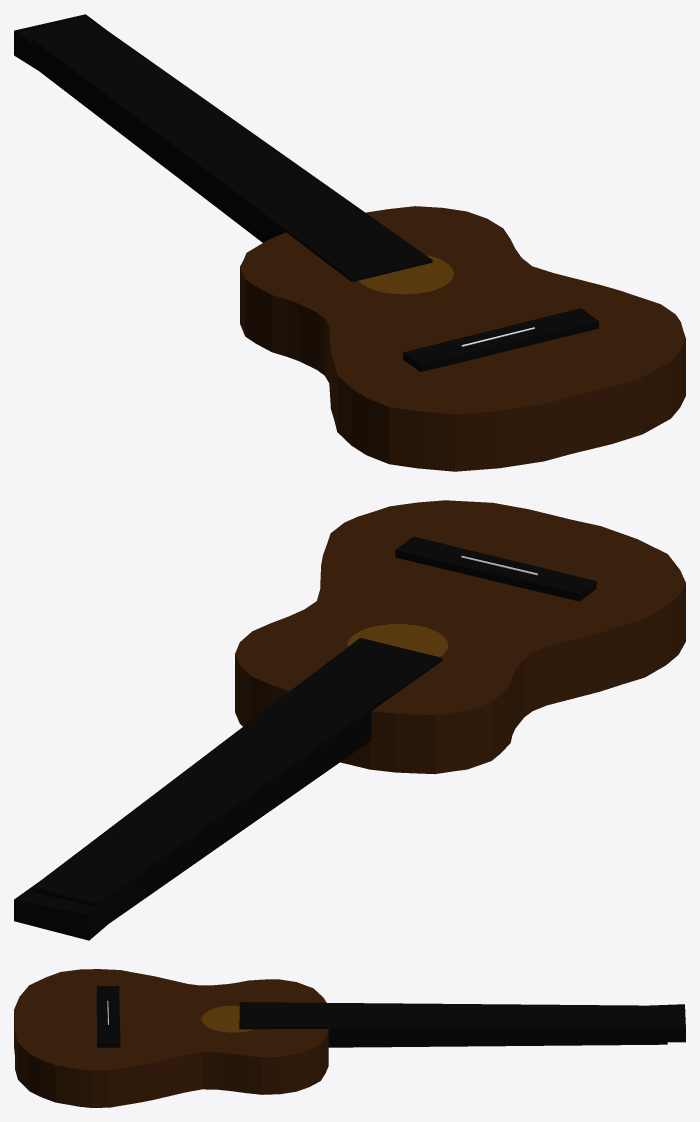
The model's file is guitarra.glb.
3 views of the same model, one above another, from view 1: azimuth 30°, elevation 25°; view 2: azimuth 150°, elevation 25°; view 3: azimuth 270°, elevation 25° (orthographic). The views are drawn at different scales.
Visible parts, largest first — view 1: Plane, Plane.001, Plane.003, Plane.002; view 2: Plane, Plane.001, Plane.003, Plane.002; view 3: Plane, Plane.001, Plane.002, Plane.003.
Boxes of the visible parts, box(x1,y1,x2,y2) form: Plane: box(240, 206, 685, 471); Plane.001: box(32, 23, 432, 281); Plane.003: box(403, 308, 598, 371); Plane.002: box(14, 14, 104, 94); Plane: box(235, 500, 685, 774); Plane.001: box(32, 638, 442, 922); Plane.003: box(395, 536, 596, 601); Plane.002: box(14, 881, 143, 940); Plane: box(14, 969, 328, 1107); Plane.001: box(239, 1002, 667, 1047); Plane.002: box(596, 1004, 685, 1042); Plane.003: box(96, 986, 120, 1047).
Size of the model in its own units: 5.81 by 1.15 by 16.25.
4 materials, 4 textured.
